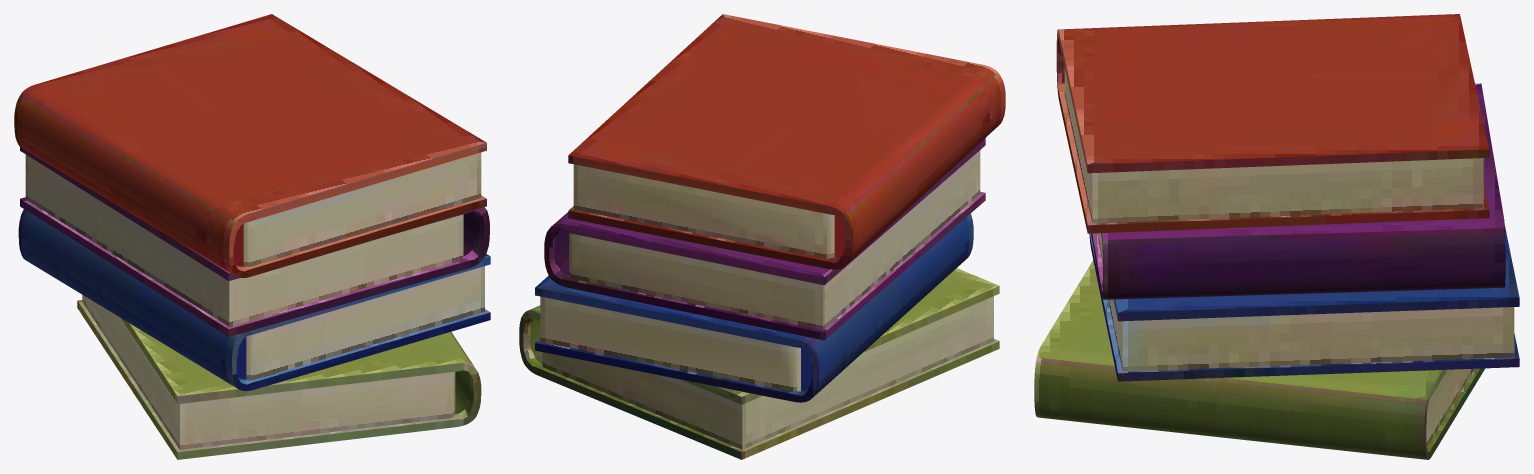
The model's file is gg_books_stack.glb.
The picture shows the model from 3 angles, left to right: view 1: azimuth 30°, elevation 25°; view 2: azimuth 150°, elevation 25°; view 3: azimuth 270°, elevation 25°; orthographic projection. The views are drawn at different scales.
Parts seen in each view (by area): view 1: mesh; view 2: mesh; view 3: mesh.
Boxes of the visible parts, x1,y1,x2,y2 form: mesh: (14, 14, 490, 459); mesh: (519, 14, 1005, 459); mesh: (1034, 14, 1519, 459).
Size of the model in its own units: 0.2155 by 0.15 by 0.2383.
Materials: 1 (1 with a texture image).
